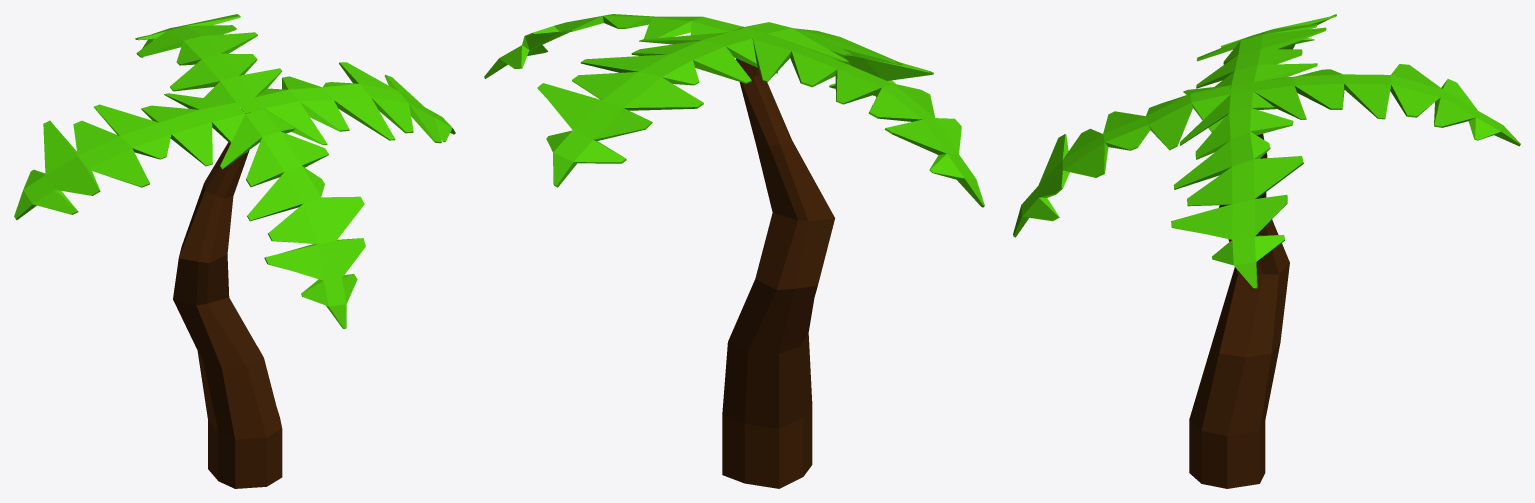
File: PalmTreeFBX.fbx
The picture shows the model from 3 angles, left to right: view 1: azimuth 30°, elevation 25°; view 2: azimuth 150°, elevation 25°; view 3: azimuth 270°, elevation 25°; orthographic projection. The views are drawn at different scales.
Visible parts, largest first — view 1: Cube; view 2: Cube; view 3: Cube.
Boxes of the visible parts, x1,y1,x2,y2 form: Cube: (14, 14, 455, 488); Cube: (484, 14, 984, 488); Cube: (1013, 14, 1520, 488).
Size of the model in its own units: 9.05 by 7.61 by 8.69.
